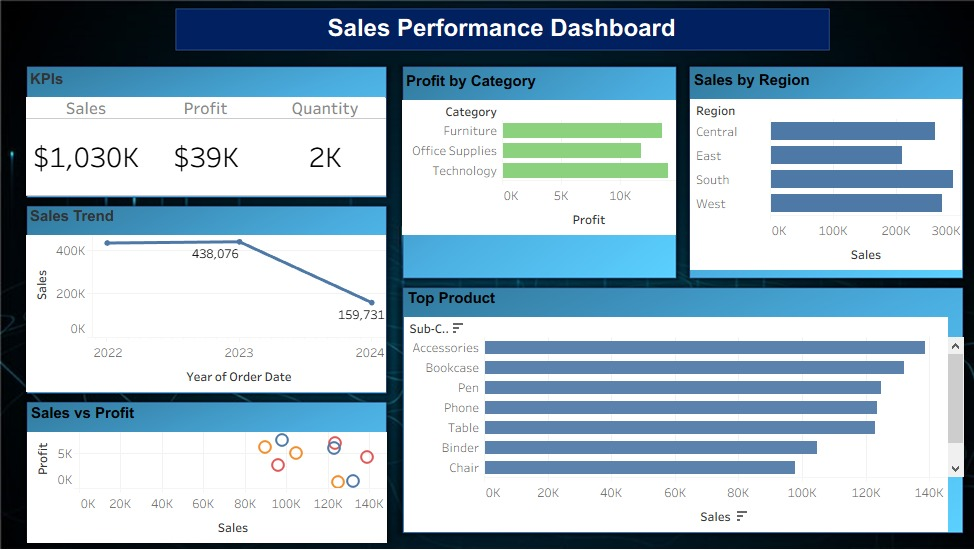

The dashboard page shown, as its layout file describes it:
{"tool":"tableau","page":{"name":"Dashboard 3","canvas":[1000,592],"ordinal":0},"visuals":[{"type":"image","param":"Image/Presentation1.png","box":[8,8,984,576]},{"type":"text","box":[337,25,498,47]},{"type":"worksheet","title":"kpi","mark":"Automatic","box":[38,87,360,130]},{"type":"worksheet","title":"Sales by Region","mark":"Automatic","rows":["Region"],"cols":["Sales"],"box":[702,88,272,210]},{"type":"worksheet","title":"Profit by Category","mark":"Automatic","rows":["Category"],"cols":["Profit"],"box":[414,89,274,209]},{"type":"worksheet","title":"salestrend","mark":"Line","rows":["Sales"],"cols":["Order Date"],"box":[38,224,360,189]},{"type":"worksheet","title":"Top Products","mark":"Bar","rows":["Sub-Category"],"cols":["Sales"],"box":[416,306,560,247]},{"type":"worksheet","title":"Sales vs Profit","mark":"Automatic","rows":["Profit"],"cols":["Sales"],"box":[39,421,360,143]}]}

Visuals, with their boxes in screenshot pixels (x1, y1, x2, y2):
image: 0,0,965,549
text: 319,2,810,48
"kpi" worksheet: 25,63,380,191
"Sales by Region" worksheet: 679,64,947,271
"Profit by Category" worksheet: 395,65,665,271
"salestrend" worksheet (Line marks): 25,198,380,384
"Top Products" worksheet (Bar marks): 397,279,949,522
"Sales vs Profit" worksheet: 26,392,381,533
